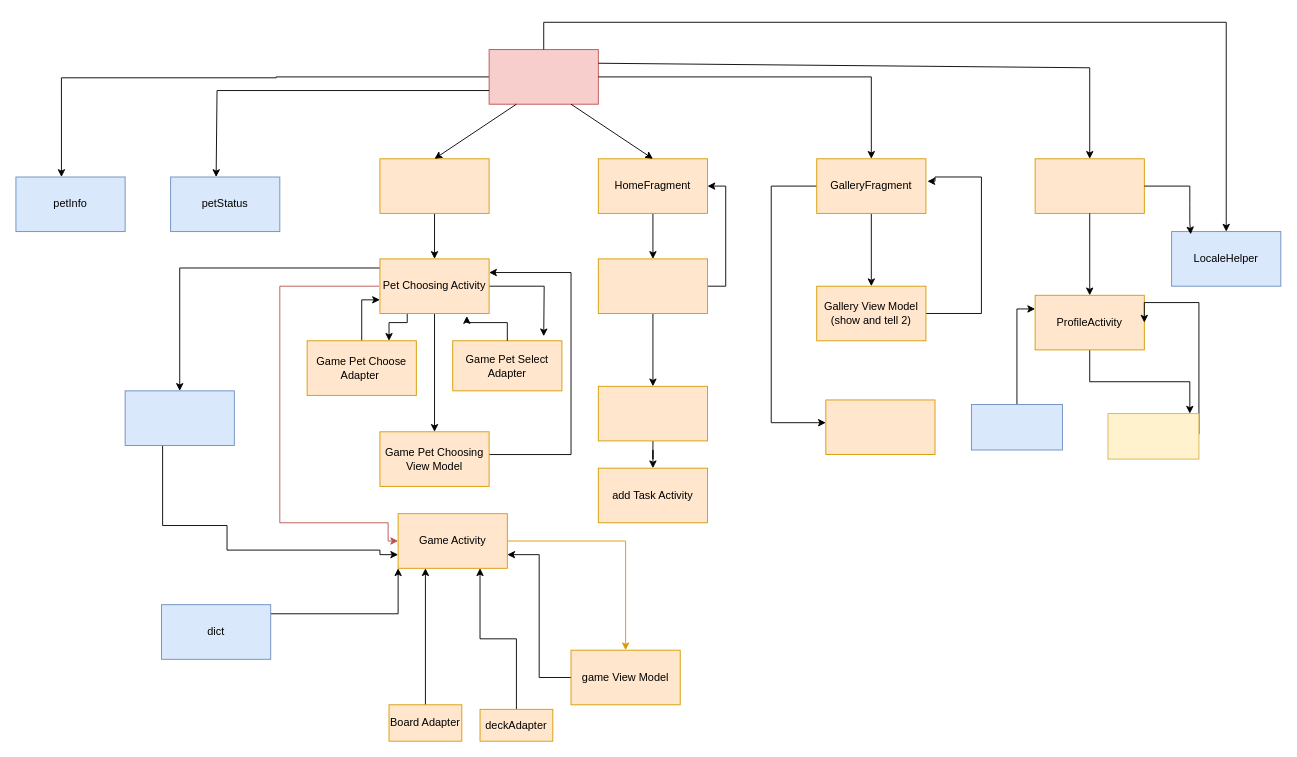
Some shapes in this 1297 by 757 pixel diagram are drawn without their labels. The centre of each missing label's shape, as x and y in pixels:
"Confirm Task Activity" belongs at (652,413).
"Gallery Adapter" belongs at (880,427).
"Game Fragment" belongs at (434,185).
"HomeViewModel" belongs at (652,285).
"MainActivity" belongs at (543,76).
"MyViewModel" belongs at (1153,436).
"SettingsFragment" belongs at (1089,185).
"Shared Preference Manager" belongs at (179,417).
"Util" belongs at (1016,427).
